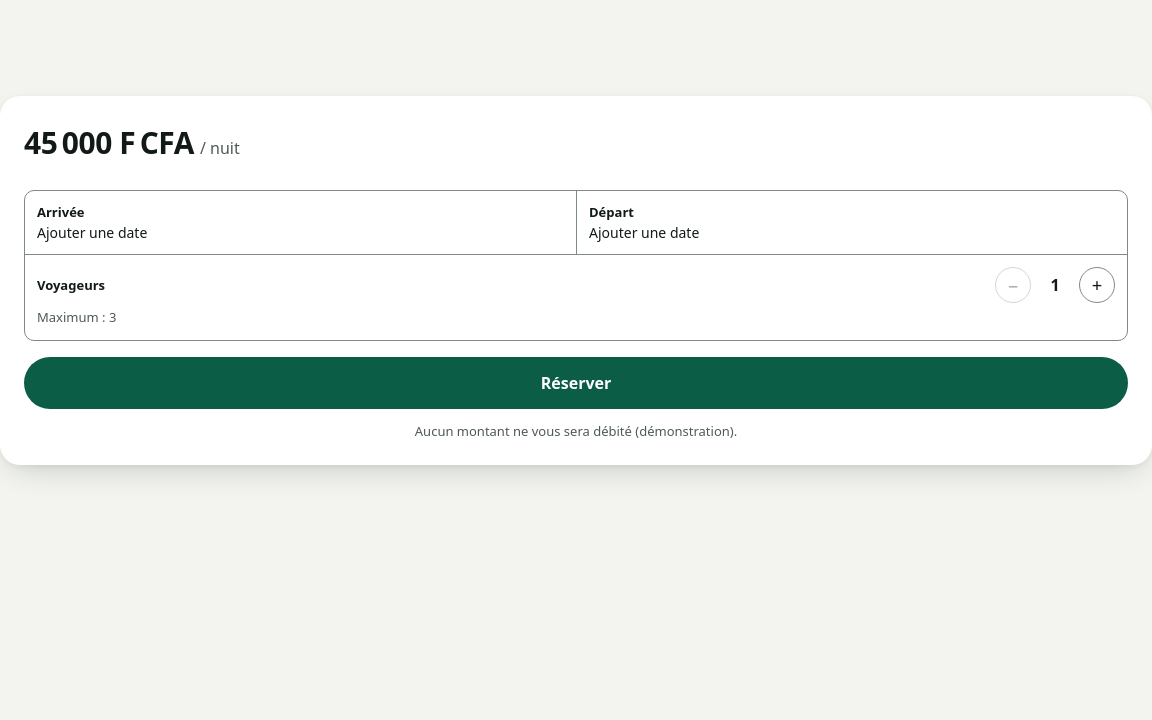
Test: BookingWidget › without dates, asks to choose them instead of opening the booking step
Click the button "Réserver": (576, 383) [24,357,1128,409]
(page scrolled)
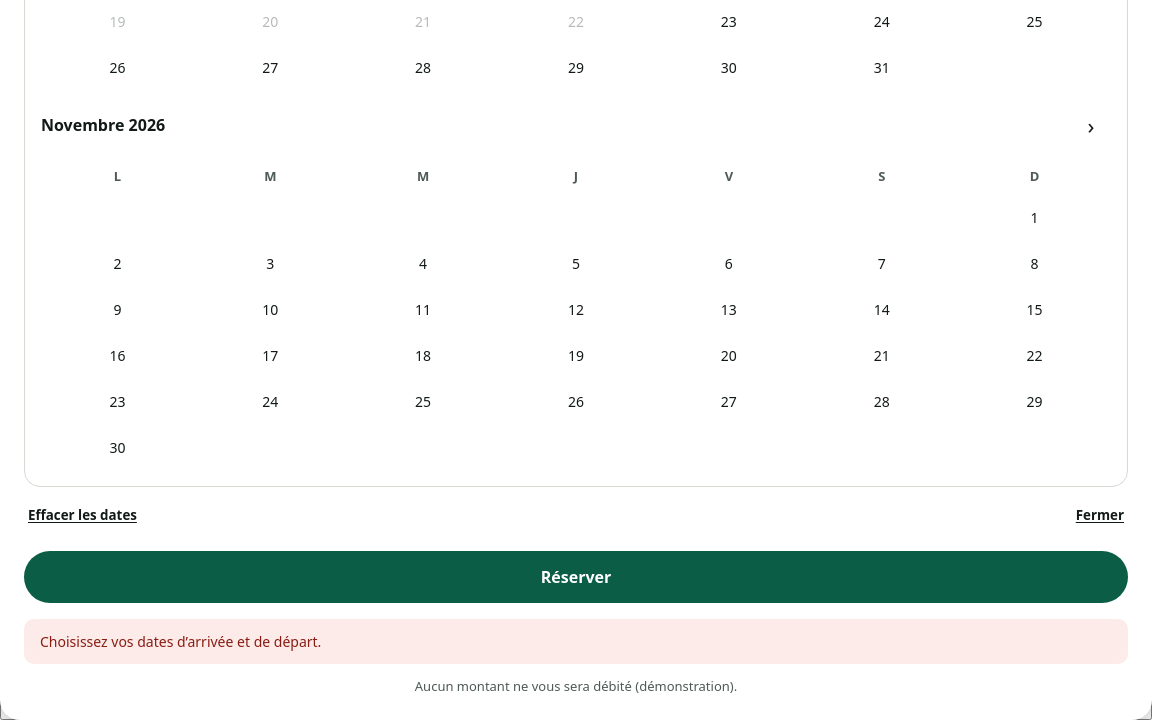
Check: the message reads "Choisissez vos dates d’arrivée et de départ.", box [40,632,321,651]
